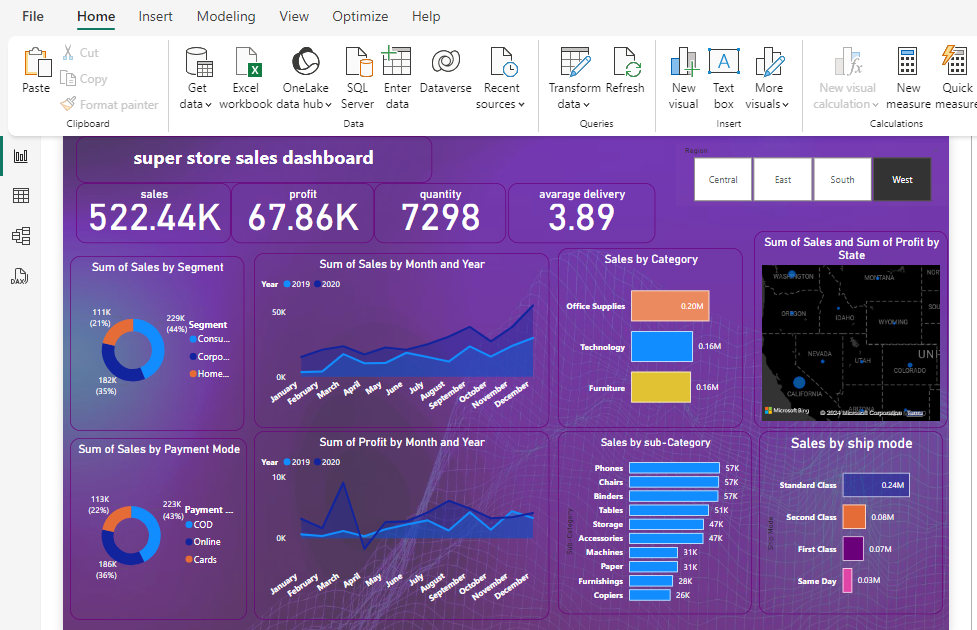

The page's visual inventory and layout, read from the dashboard file:
{"tool":"powerbi","page":{"name":"Page 1","canvas":[1280,720],"ordinal":0},"visuals":[{"type":"clusteredBarChart","title":"Sales by Category","fields":{"Category":["Sheet1.Category"],"Y":["Sum(Sheet1.Sales)"]},"box":[715.7,161.9,267.5,260.2],"z":0},{"type":"clusteredBarChart","title":"Sales by sub-Category","fields":{"Category":["Sheet1.Sub-Category","Sheet1.Category"],"Y":["Sum(Sheet1.Sales)"]},"box":[715.7,426.5,280.5,264.6],"z":1},{"type":"clusteredBarChart","title":"Sales by ship mode","fields":{"Y":["Sum(Sheet1.Sales)"],"Category":["Sheet1.Ship Mode"]},"box":[1006.3,426.5,266,264.6],"z":2},{"type":"areaChart","fields":{"Y":["Sum(Sheet1.Sales)"],"Category":["Sheet1.Order Date.Variation.Date Hierarchy.Month","Sheet1.Order Date.Variation.Date Hierarchy.Day"],"Series":["Sheet1.Order Date.Variation.Date Hierarchy.Year"]},"box":[276.1,169.2,426.5,253],"z":3},{"type":"areaChart","fields":{"Category":["Sheet1.Order Date.Variation.Date Hierarchy.Month","Sheet1.Order Date.Variation.Date Hierarchy.Day"],"Series":["Sheet1.Order Date.Variation.Date Hierarchy.Year"],"Y":["Sum(Sheet1.Profit)"]},"box":[276.1,426.5,426.5,273.3],"z":4},{"type":"map","fields":{"Category":["Sheet1.State"],"Size":["Sum(Sheet1.Sales)"]},"box":[999,137.3,280.5,284.8],"z":5},{"type":"donutChart","fields":{"Category":["Sheet1.Segment"],"Y":["Sum(Sheet1.Sales)"]},"box":[10.1,173.5,251.6,253],"z":6},{"type":"donutChart","fields":{"Category":["Sheet1.Payment Mode","Sheet1.Segment"],"Y":["Sum(Sheet1.Sales)"]},"box":[10.1,436.6,255.9,263.1],"z":7},{"type":"slicer","fields":{"Values":["Sheet1.Region"]},"box":[867.5,10.1,412,91.1],"z":8},{"type":"textbox","box":[18.8,0,514.7,68],"z":9},{"type":"card","title":"sales","fields":{"Values":["Sum(Sheet1.Sales)"]},"box":[18.8,68,266,86.7],"z":10},{"type":"card","title":"profit","fields":{"Values":["Sum(Sheet1.Profit)"]},"box":[284.8,68,300.7,86.7],"z":11},{"type":"card","title":"quantity","fields":{"Values":["Sum(Sheet1.Quantity)"]},"box":[585.5,68,300.7,86.7],"z":12}]}

Visuals, with their boxes on the page's 1280x720 design canvas (x1, y1, x2, y2). These are canvas units, not pixel positions in the 977x630 screenshot, which may show the page scaled, cropped or inside an application window:
"Sales by Category" clusteredBarChart: <region>716, 162, 983, 422</region>
"Sales by sub-Category" clusteredBarChart: <region>716, 426, 996, 691</region>
"Sales by ship mode" clusteredBarChart: <region>1006, 426, 1272, 691</region>
areaChart - Sum(Sheet1.Sales) x Sheet1.Order Date.Variation.Date Hierarchy.Month: <region>276, 169, 703, 422</region>
areaChart - Sheet1.Order Date.Variation.Date Hierarchy.Month x Sheet1.Order Date.Variation.Date Hierarchy.Day: <region>276, 426, 703, 700</region>
map - Sheet1.State x Sum(Sheet1.Sales): <region>999, 137, 1280, 422</region>
donutChart - Sheet1.Segment x Sum(Sheet1.Sales): <region>10, 174, 262, 426</region>
donutChart - Sheet1.Payment Mode x Sheet1.Segment: <region>10, 437, 266, 700</region>
slicer - Sheet1.Region: <region>868, 10, 1280, 101</region>
textbox: <region>19, 0, 534, 68</region>
"sales" card: <region>19, 68, 285, 155</region>
"profit" card: <region>285, 68, 586, 155</region>
"quantity" card: <region>586, 68, 886, 155</region>
